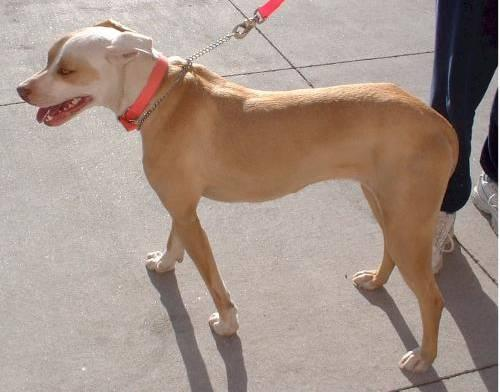dog: (16, 22, 459, 381)
